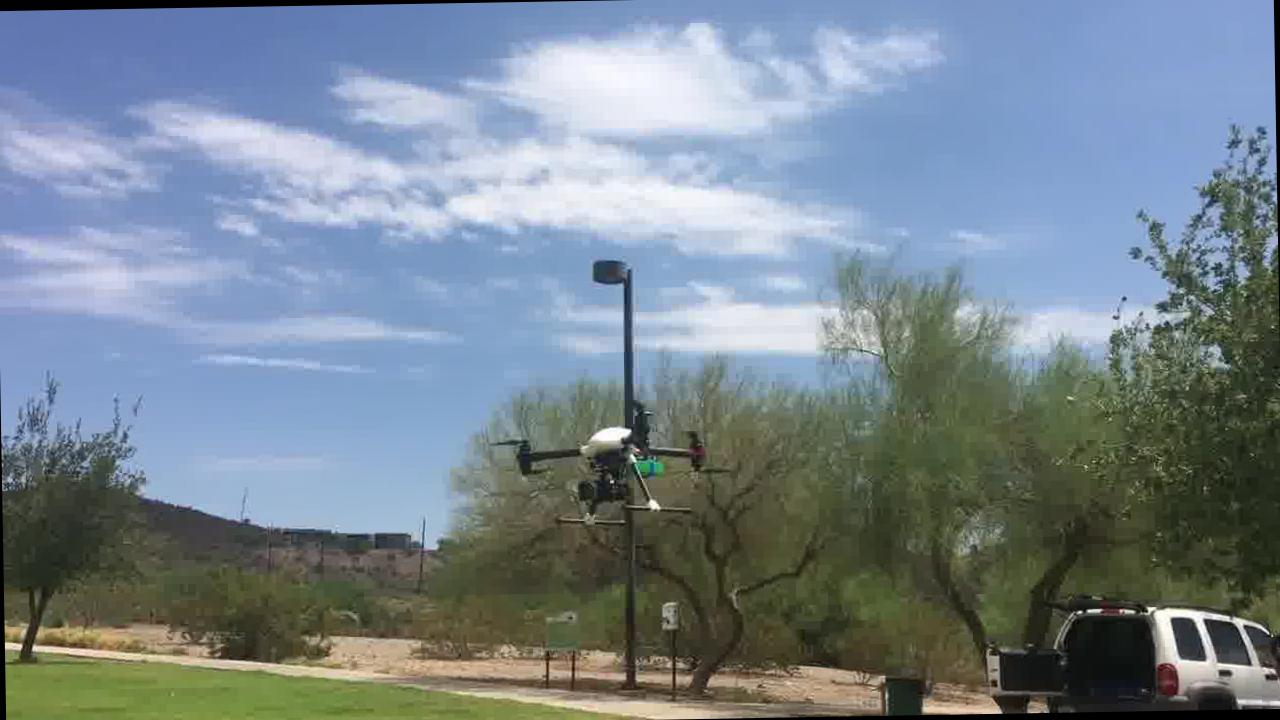drone: (507, 410, 719, 530)
